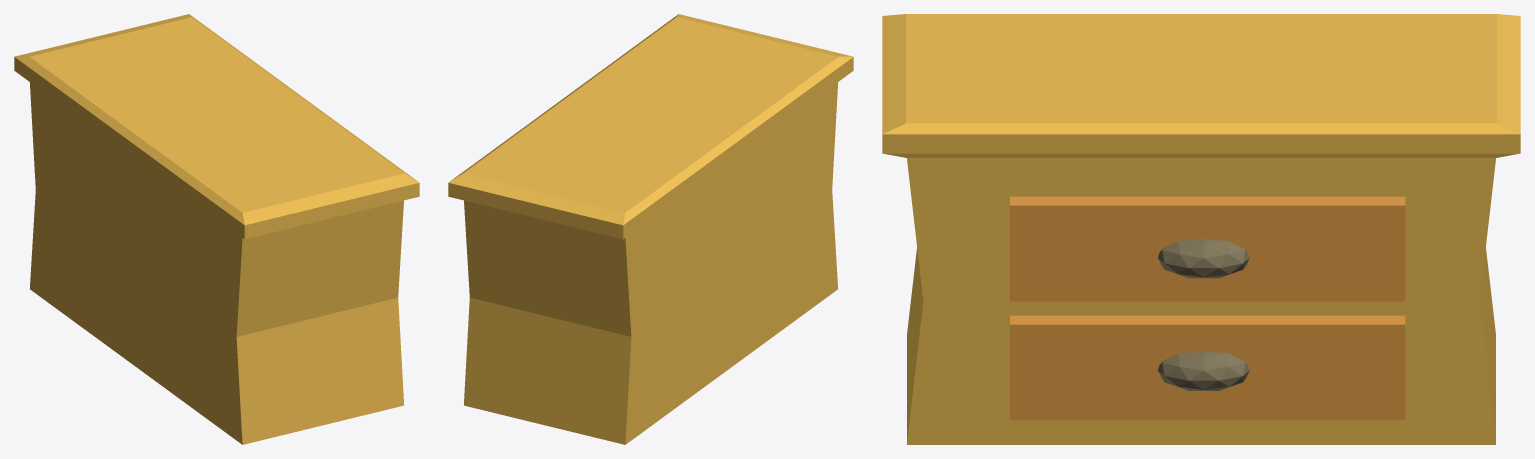
Rendered from WallyWardrobe.fbx.
The picture shows the model from 3 angles, left to right: view 1: azimuth 30°, elevation 25°; view 2: azimuth 150°, elevation 25°; view 3: azimuth 270°, elevation 25°; orthographic projection. The views are drawn at different scales.
Parts seen in each view (by area): view 1: Cube.009; view 2: Cube.009; view 3: Cube.009, Icosphere, Icosphere.001.
Part boxes in pixels (x1,y1,x2,y2): Cube.009: [14, 14, 419, 444]; Cube.009: [448, 14, 853, 444]; Cube.009: [882, 14, 1520, 444]; Icosphere: [1158, 238, 1249, 278]; Icosphere.001: [1158, 351, 1249, 390].
Size of the model in its own units: 199 by 224 by 403.
